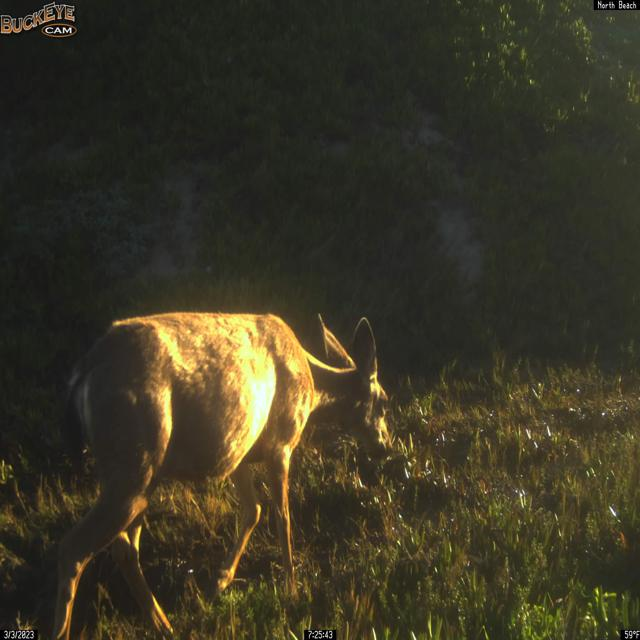deer: (48, 310, 394, 640)
